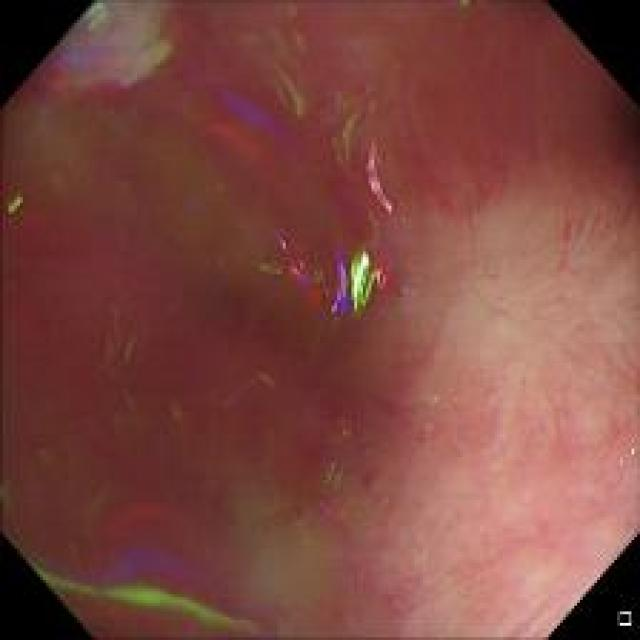color misalignment: (6, 9, 370, 586), (202, 62, 408, 328), (36, 490, 250, 624), (29, 2, 166, 104)
